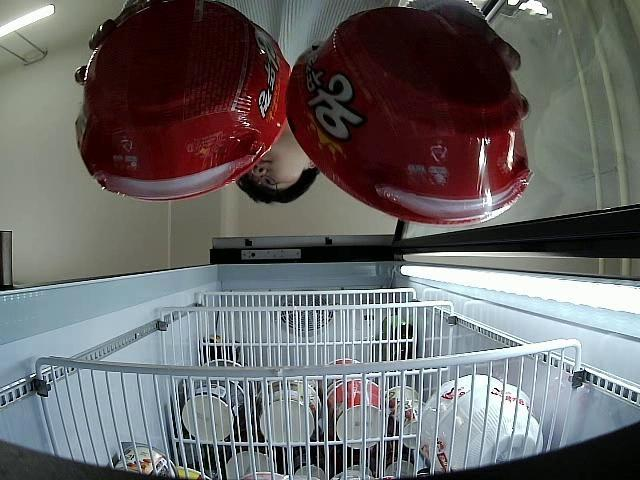10_wangTtukkeong: (288, 8, 532, 227), (76, 0, 289, 200)
